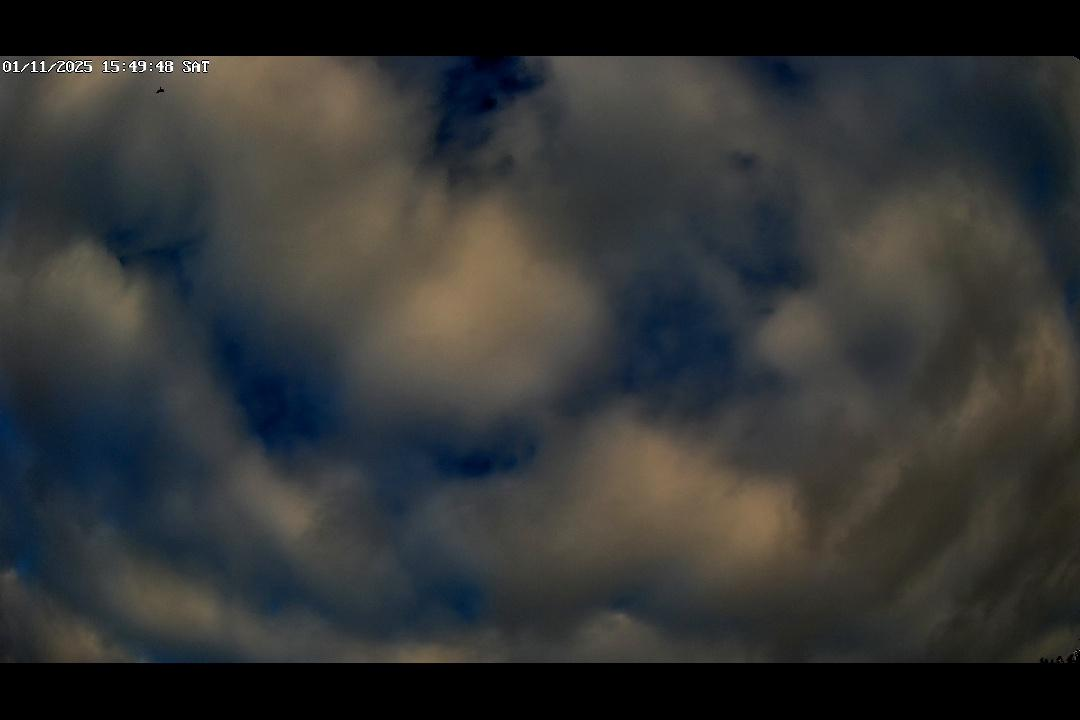WildLife: (151, 82, 169, 97)
